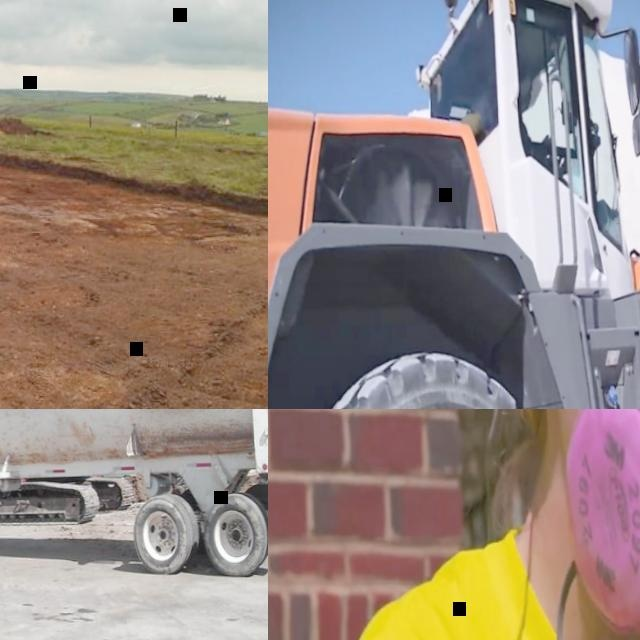Mask: (560, 409, 640, 640)
NO-Safety Vest: (393, 526, 640, 640)
Person: (300, 409, 640, 640), (514, 82, 549, 158)
machinery: (268, 0, 640, 409), (0, 409, 268, 640), (0, 409, 134, 525)
